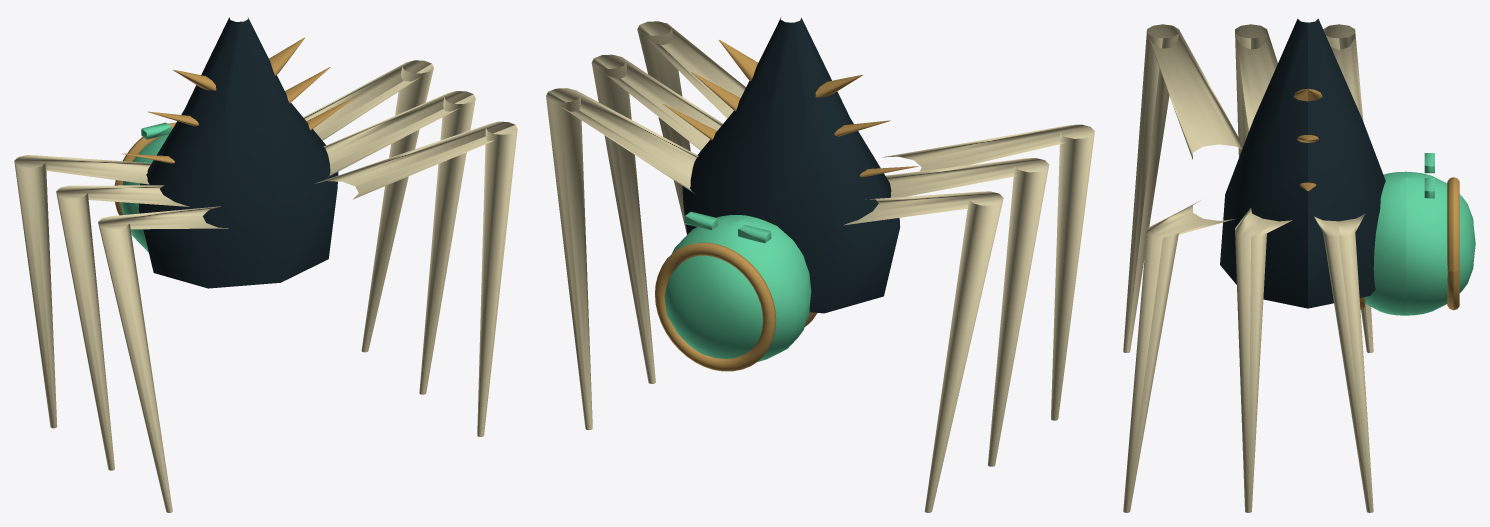
The model's file is creature_0_5.glb.
3 views of the same model, side by side, from view 1: azimuth 30°, elevation 25°; view 2: azimuth 150°, elevation 25°; view 3: azimuth 270°, elevation 25° (orthographic). The views are drawn at different scales.
Parts seen in each view (by area): view 1: Stilt (×6), SpireShell, GlassCore; view 2: Stilt (×6), SpireShell, GlassCore, GiltOrbRim; view 3: Stilt (×6), SpireShell, GlassCore, GiltOrbRim.
Boxes of the visible parts, x1,y1,x2,y2 form: Stilt (×6): (14,60,517,512); SpireShell: (138,17,338,288); GlassCore: (121,134,168,252); Stilt (×6): (546,21,1094,512); SpireShell: (682,17,900,313); GlassCore: (664,215,811,361); GiltOrbRim: (655,242,776,371); Stilt (×6): (1123,24,1373,512); SpireShell: (1220,18,1385,308); GlassCore: (1365,171,1475,315); GiltOrbRim: (1447,177,1459,310).
Bounding box in the file's own units: 1.95 × 1.76 × 1.36.
